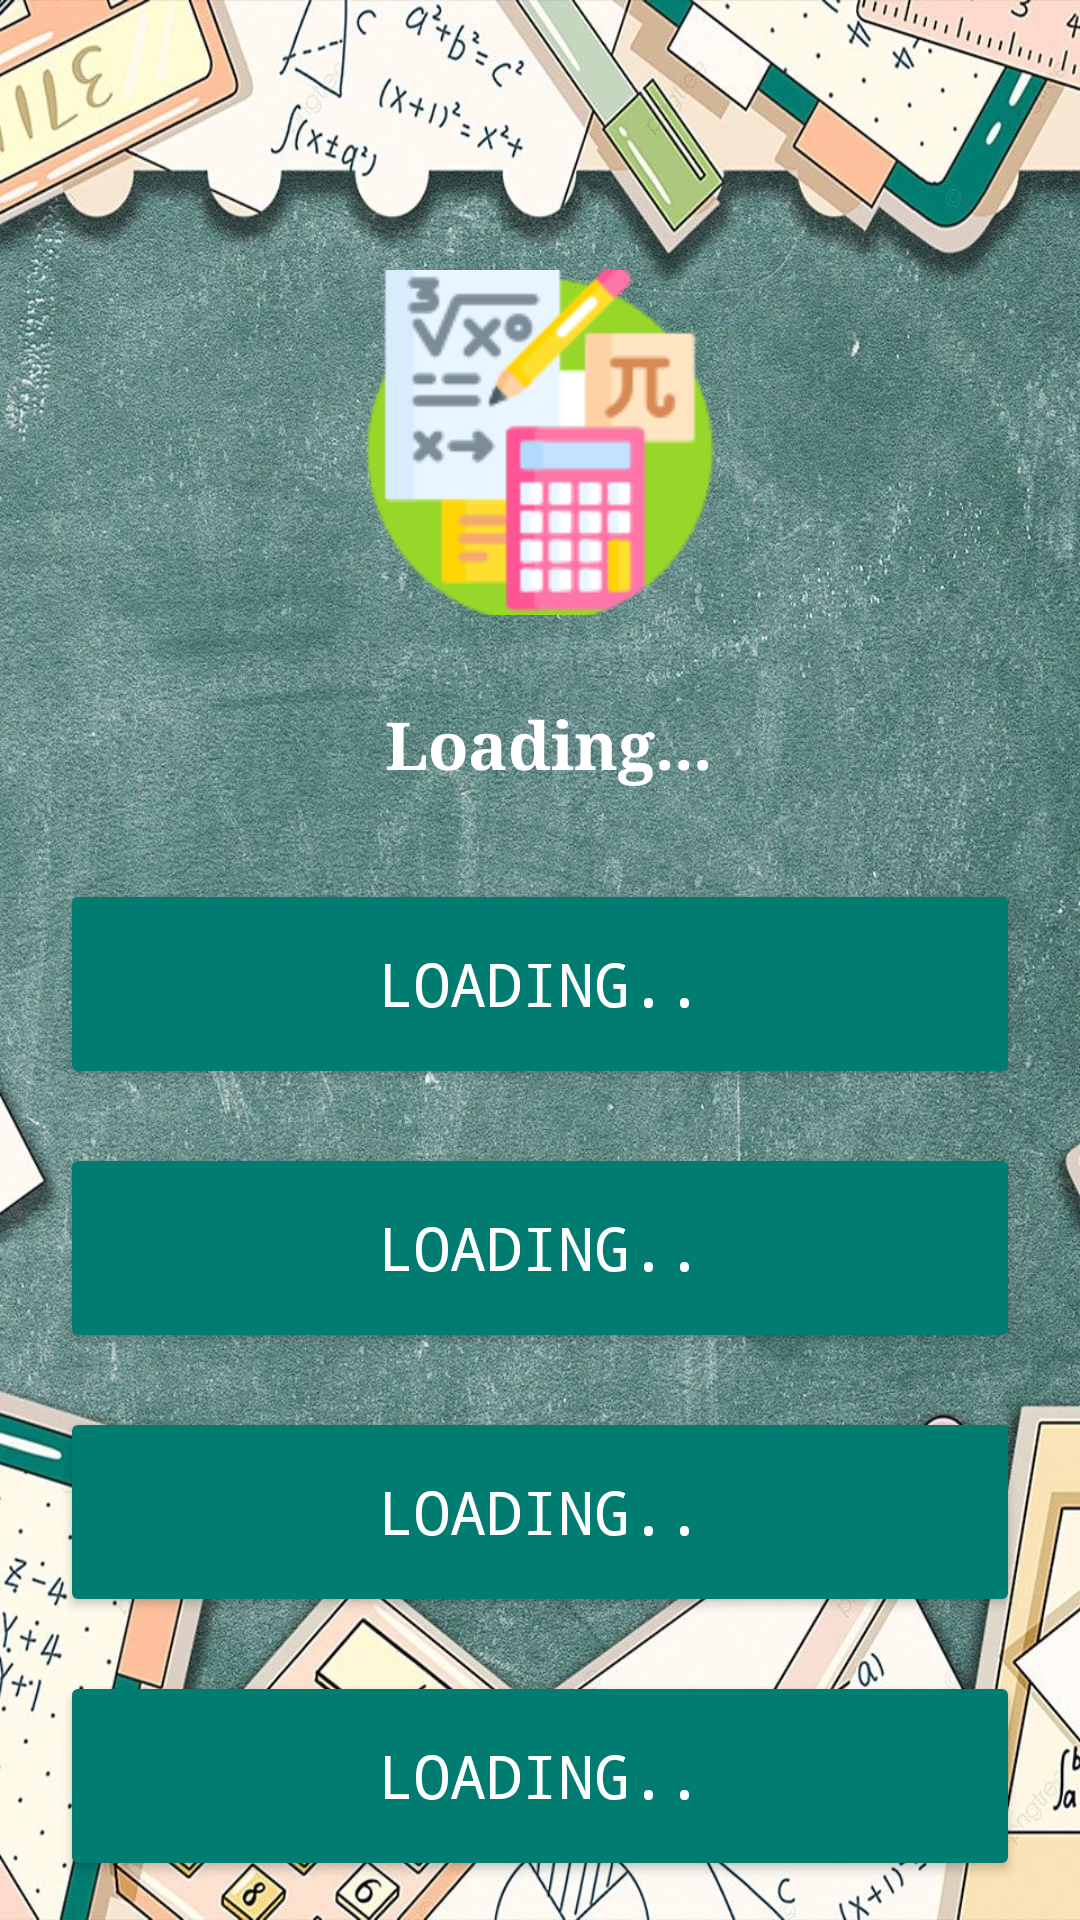

Named icons in this screenshot (1080×1920) and their centers, [x,y]:
mathematics: [540,442]
